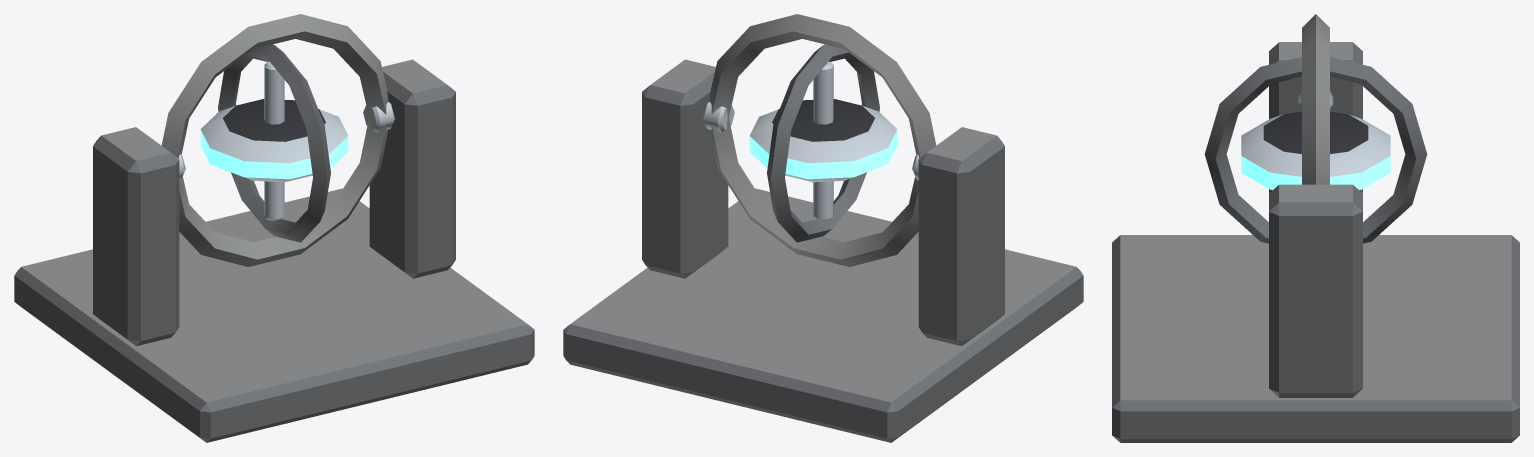
The model's file is R4X_Gyroscope_LOD1.glb.
3 renders of one model, left to right at view 1: azimuth 30°, elevation 25°; view 2: azimuth 150°, elevation 25°; view 3: azimuth 270°, elevation 25°, orthographic. The views are drawn at different scales.
Visible parts, largest first — view 1: R4X_Gyroscope_LOD1; view 2: R4X_Gyroscope_LOD1; view 3: R4X_Gyroscope_LOD1.
Part boxes in pixels (x1,y1,x2,y2): R4X_Gyroscope_LOD1: (14,14,534,442); R4X_Gyroscope_LOD1: (563,14,1083,442); R4X_Gyroscope_LOD1: (1112,14,1519,442).
Bounding box in the file's own units: 0.52 × 0.4684 × 0.52.
